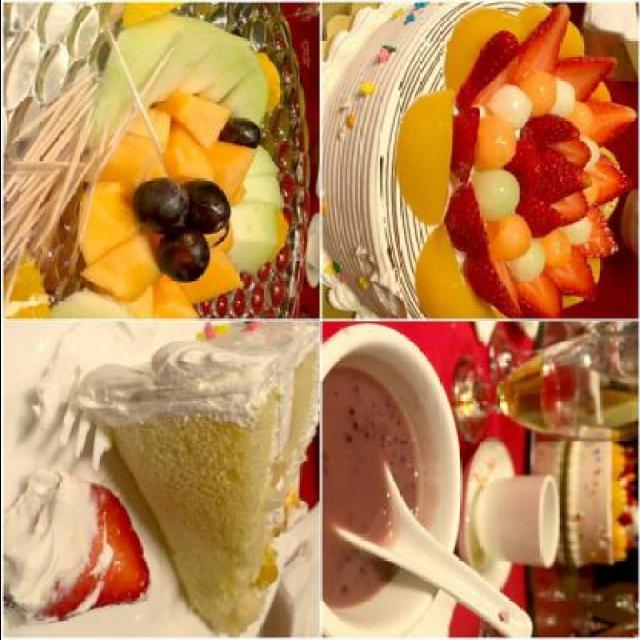Strawberry: (15, 478, 158, 624), (450, 31, 522, 108), (512, 0, 570, 86), (528, 147, 600, 210), (464, 250, 522, 319), (443, 183, 491, 255), (542, 248, 600, 304), (580, 95, 637, 147), (447, 104, 482, 188), (587, 153, 636, 210), (513, 272, 569, 321), (520, 108, 578, 154), (503, 136, 545, 198), (556, 60, 612, 102), (515, 192, 563, 240), (576, 214, 620, 258), (547, 188, 591, 226), (559, 134, 593, 170)
